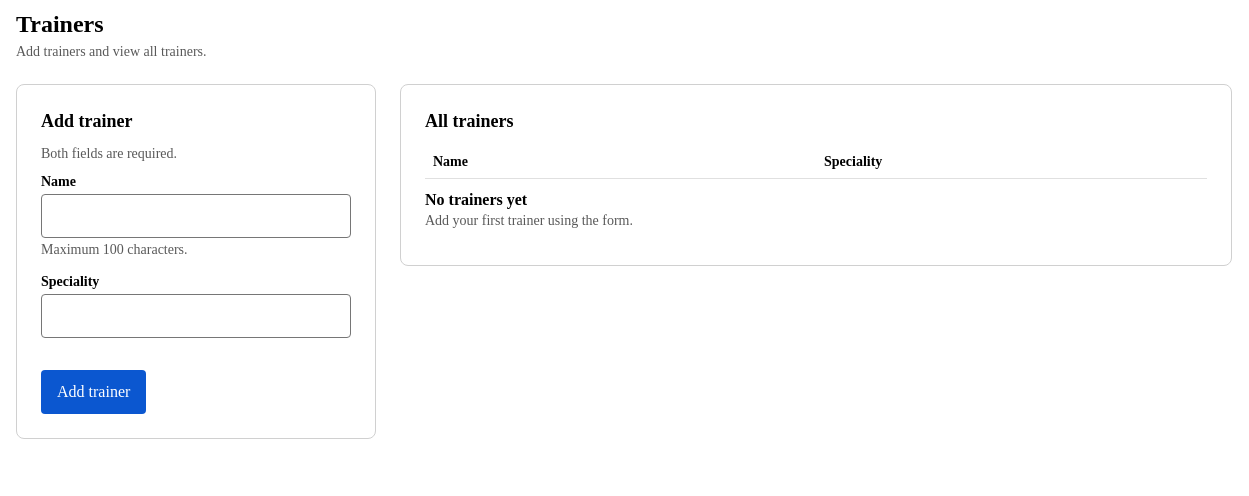
Test: Trainers page (FIT-941 T2) › Trainers / Validation Error (AC-008, AC-009, AC-010) › AC-008: both empty shows both messages beside the fields, focuses Name, creates nothing
Click the submit button.
click(94, 392)  # box [41, 370, 146, 414]
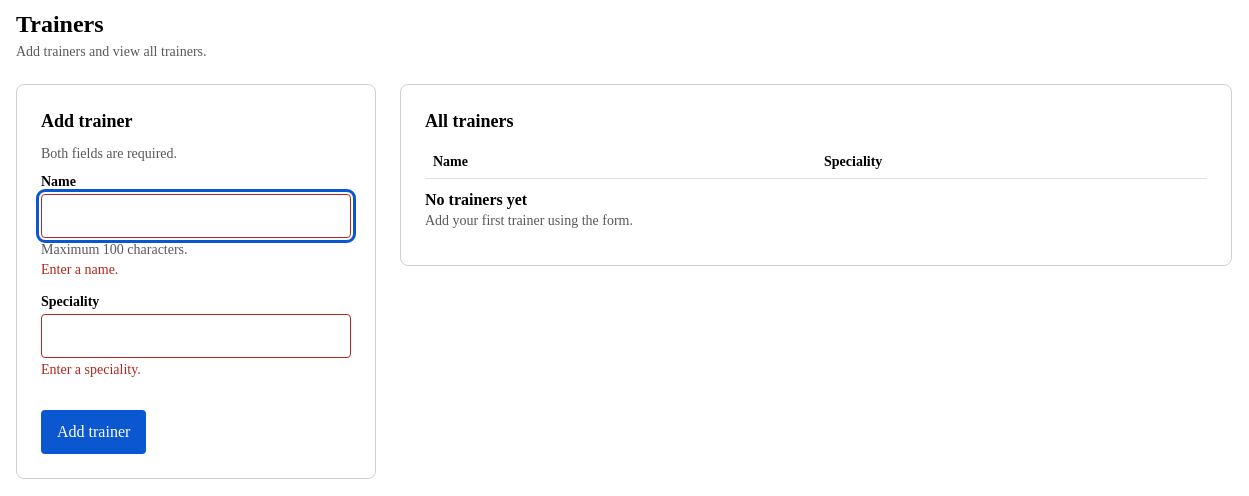
Check: the text "No trainers yet" is shown, box [425, 191, 527, 208]
Check: the text "Enter a name." is shown, box [41, 262, 118, 277]
Check: the text "Enter a speciality." is shown, box [41, 362, 141, 377]
